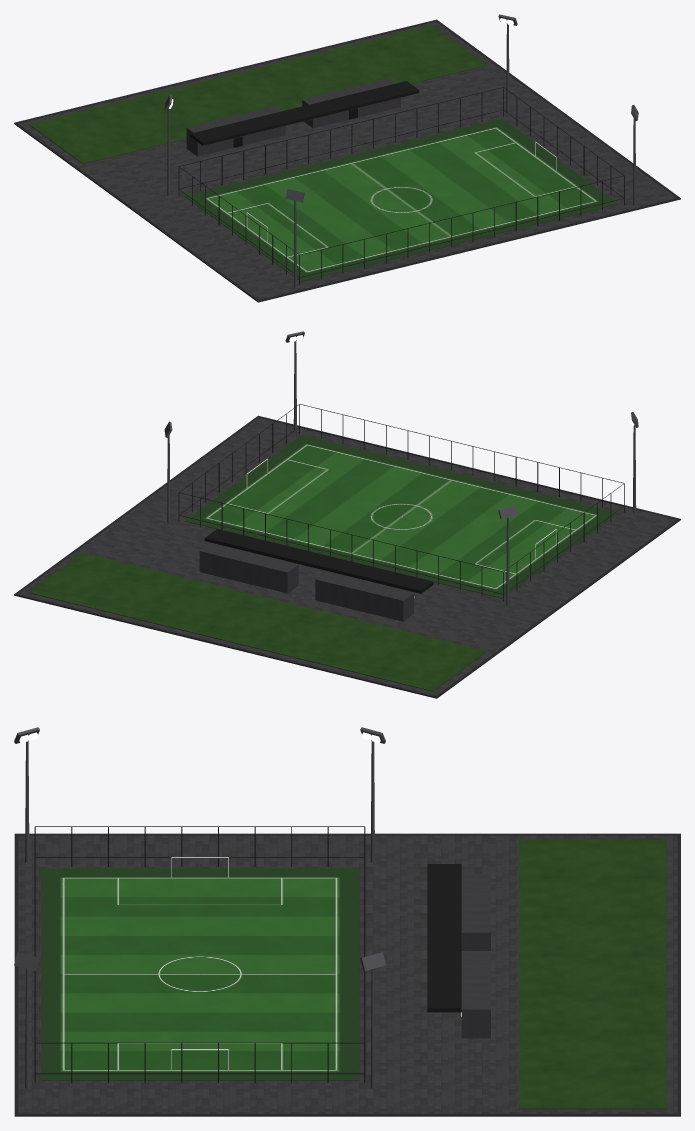
Rendered from training_L1.glb.
3 renders of one model, top to bottom at view 1: azimuth 30°, elevation 25°; view 2: azimuth 150°, elevation 25°; view 3: azimuth 270°, elevation 25°, orthographic. The views are drawn at different scales.
Visible parts, largest first — view 1: paving_training_L1, turf_train_s_training_L1, lawn_training_L1, black_metal_training_L1, concrete_dark_training_L1, cladding_training_L1, steel_training_L1; view 2: turf_train_s_training_L1, paving_training_L1, lawn_training_L1, black_metal_training_L1, cladding_training_L1, concrete_dark_training_L1, steel_training_L1; view 3: turf_train_s_training_L1, paving_training_L1, lawn_training_L1, black_metal_training_L1, concrete_dark_training_L1, cladding_training_L1, steel_training_L1.
Part boxes in pixels (box(x1,y1,x2,y2)): paving_training_L1: box(18, 21, 676, 299); turf_train_s_training_L1: box(184, 118, 618, 281); lawn_training_L1: box(28, 25, 486, 164); black_metal_training_L1: box(178, 81, 624, 284); concrete_dark_training_L1: box(14, 19, 680, 302); cladding_training_L1: box(186, 78, 400, 156); steel_training_L1: box(164, 14, 638, 288); turf_train_s_training_L1: box(185, 435, 618, 598); paving_training_L1: box(18, 417, 676, 695); lawn_training_L1: box(28, 553, 486, 691); black_metal_training_L1: box(178, 404, 624, 601); cladding_training_L1: box(199, 543, 413, 621); concrete_dark_training_L1: box(14, 415, 680, 698); steel_training_L1: box(164, 331, 638, 605); turf_train_s_training_L1: box(41, 868, 359, 1080); paving_training_L1: box(18, 835, 677, 1113); lawn_training_L1: box(518, 839, 666, 1109); black_metal_training_L1: box(34, 826, 461, 1082); concrete_dark_training_L1: box(14, 833, 680, 1116); cladding_training_L1: box(461, 874, 490, 1038); steel_training_L1: box(14, 727, 385, 1088).
Size of the model in its own units: 58.6 by 12.96 by 58.67.
Materials: 12 (5 with a texture image).
